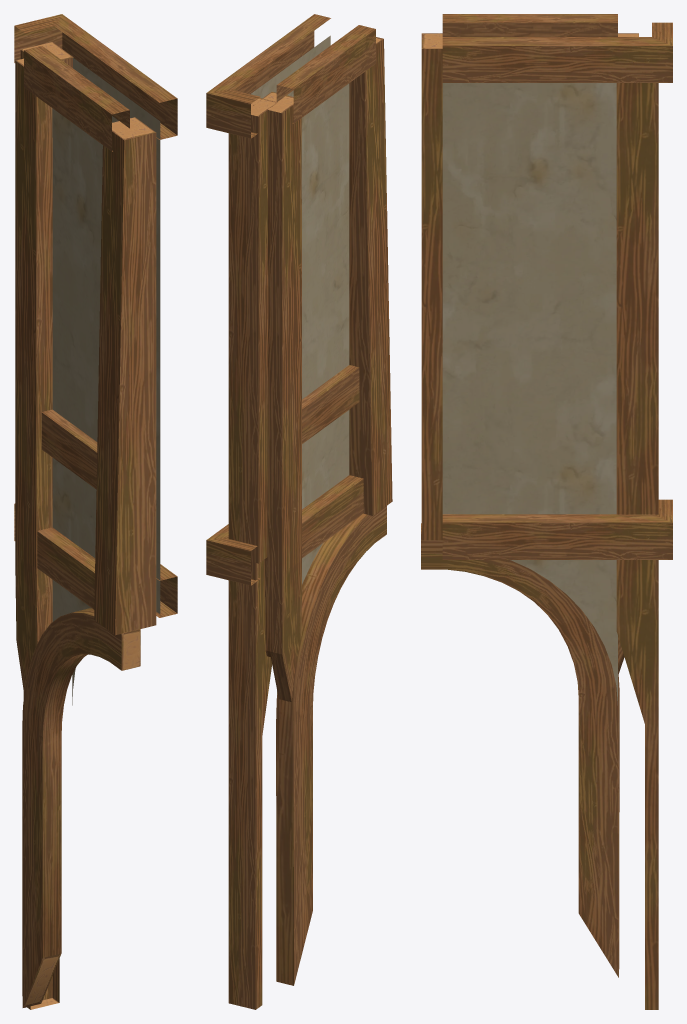
Rendered from Overhang_Side_Plaster_Short_L.glb.
The picture shows the model from 3 angles, left to right: view 1: azimuth 30°, elevation 25°; view 2: azimuth 150°, elevation 25°; view 3: azimuth 270°, elevation 25°; orthographic projection. The views are drawn at different scales.
Visible parts, largest first — view 1: Overhang_Side_Plaster_Short_L; view 2: Overhang_Side_Plaster_Short_L; view 3: Overhang_Side_Plaster_Short_L.
Boxes of the visible parts, left/top/right/bottom form: Overhang_Side_Plaster_Short_L: left=14, top=14, right=177, bottom=1009; Overhang_Side_Plaster_Short_L: left=206, top=14, right=392, bottom=1009; Overhang_Side_Plaster_Short_L: left=421, top=14, right=672, bottom=1009.
Bounding box in the file's own units: 0.4794 × 6.12 × 1.44.
2 materials, 2 textured.
